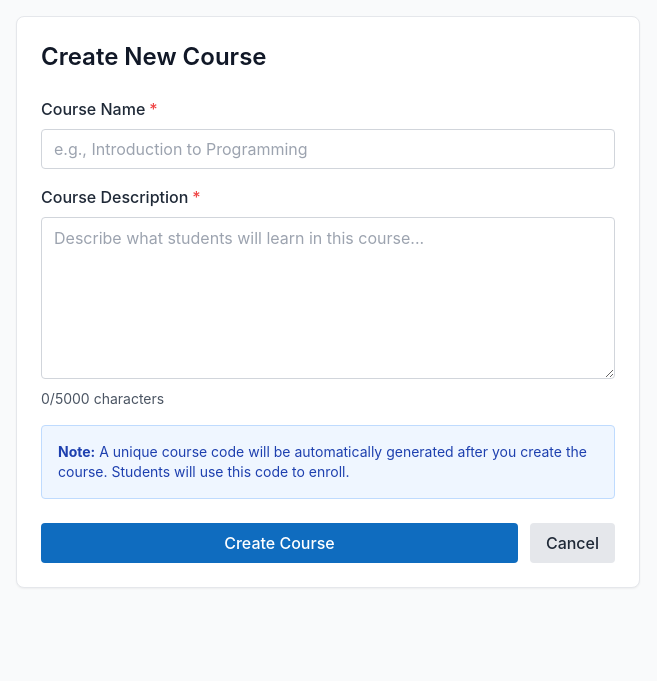
Test: CreateCourse › Error Handling › should display generic error message on API failure
Type "Test Course" into the field labelled "Course Name*" at (328, 149), box x1=41 y1=129 x2=615 y2=169
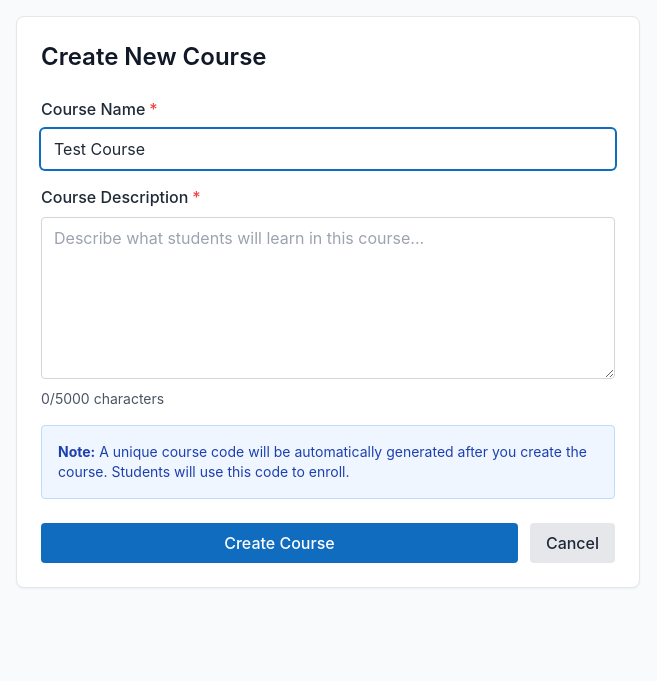
Type "Test description" into the text box labelled "Course Description*" at (328, 298), box x1=41 y1=217 x2=615 y2=379
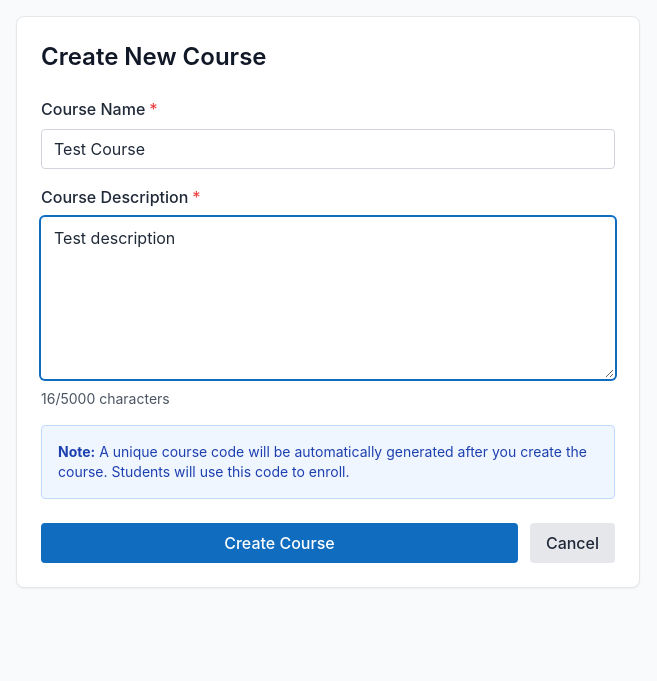
Click the button "Create Course" at (279, 543), box x1=41 y1=523 x2=518 y2=563
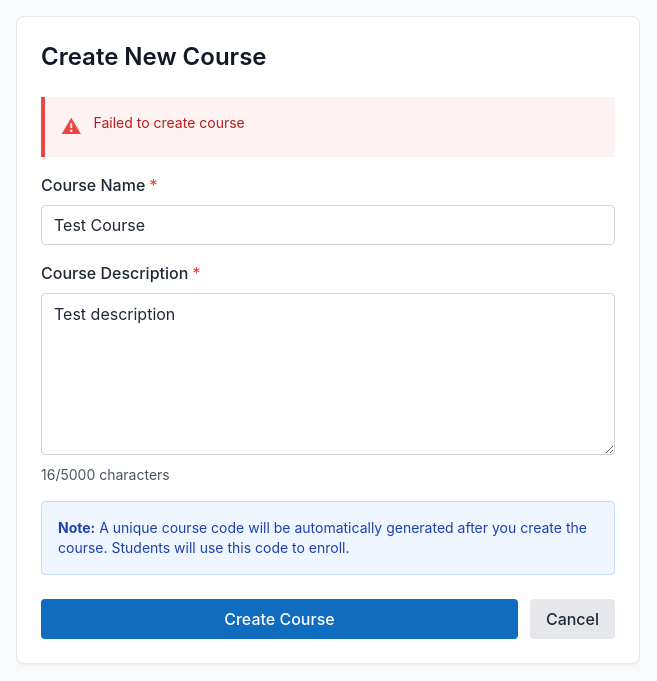
Now the text "Failed to create course" is shown, box x1=94 y1=113 x2=245 y2=133
